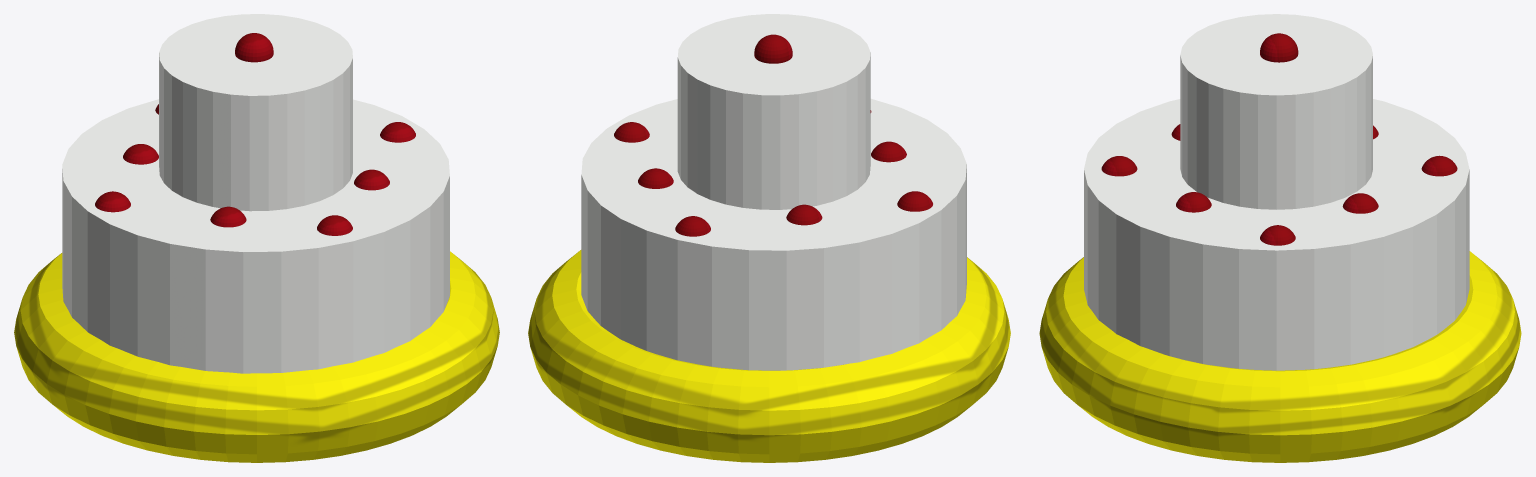
File: cake.gltf
The picture shows the model from 3 angles, left to right: view 1: azimuth 30°, elevation 25°; view 2: azimuth 150°, elevation 25°; view 3: azimuth 270°, elevation 25°; orthographic projection.
Parts seen in each view (by area): view 1: Cake; view 2: Cake; view 3: Cake.
Boxes of the visible parts, x1,y1,x2,y2 form: Cake: [14, 14, 499, 462]; Cake: [528, 14, 1010, 462]; Cake: [1039, 14, 1521, 462].
Size of the model in its own units: 2.5 by 1.95 by 2.5.
12 materials, 12 textured.
